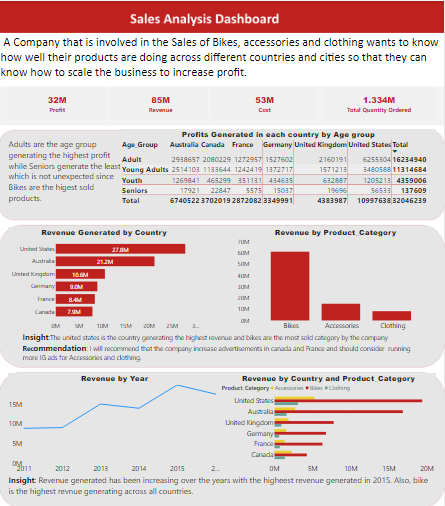

What the dashboard file says about the page in this screenshot:
{"tool":"powerbi","page":{"name":"Page 5","canvas":[4000,4576],"ordinal":4},"visuals":[{"type":"textbox","box":[9,297.3,3990.5,441.4],"z":0},{"type":"card","fields":{"Values":["Sum(updated_bike.Profit)"]},"box":[81.1,765.7,882.8,315.3],"z":1000},{"type":"card","fields":{"Values":["Sum(updated_bike.Revenue)"]},"box":[1026.9,765.7,855.7,315.3],"z":2000},{"type":"card","fields":{"Values":["Sum(updated_bike.Cost)"]},"box":[1918.7,765.7,945.8,315.3],"z":3000},{"type":"card","fields":{"Values":["Sum(updated_bike.Order_Quantity)"]},"box":[2927.6,765.7,990.9,315.3],"z":4000},{"type":"pivotTable","title":"Profits Generated in each country by Age group","fields":{"Rows":["updated_bike.Age_Group"],"Values":["Sum(updated_bike.Profit)"],"Columns":["updated_bike.Country"]},"box":[1094.5,1157.5,2834.6,779.5],"z":5000},{"type":"columnChart","fields":{"Y":["Sum(updated_bike.Revenue)"],"Category":["updated_bike.Product_Category"]},"box":[2143.9,2035.8,1774.6,936.8],"z":6000},{"type":"barChart","title":" Revenue Generated by  Country","fields":{"Y":["Sum(updated_bike.Revenue)"],"Category":["updated_bike.Country"]},"box":[81.1,2035.8,1729.5,936.8],"z":7000},{"type":"lineChart","fields":{"Category":["updated_bike.Year","updated_bike.Month","updated_bike.Day"],"Y":["Sum(updated_bike.Revenue)"]},"box":[81.1,3350.9,1801.6,909.8],"z":8000},{"type":"clusteredBarChart","fields":{"Category":["updated_bike.Country"],"Y":["Sum(updated_bike.Revenue)"],"Series":["updated_bike.Product_Category"]},"box":[1999.7,3350.9,1936.7,909.8],"z":9000},{"type":"textbox","box":[207.2,2972.6,3648.2,315.3],"z":10000},{"type":"textbox","box":[81.1,4260.7,3837.4,216.2],"z":11000},{"type":"textbox","box":[81.1,1234.1,1017.9,639.6],"z":11001}]}

Visuals, with their boxes in screenshot pixels (x1, y1, x2, y2), scaled from the page's 4000x4576 canvas onto the 445x506 screenshot:
textbox: 1/33/444/82
card - Sum(updated_bike.Profit): 9/85/107/120
card - Sum(updated_bike.Revenue): 114/85/209/120
card - Sum(updated_bike.Cost): 213/85/319/120
card - Sum(updated_bike.Order_Quantity): 326/85/436/120
"Profits Generated in each country by Age group" pivotTable: 122/128/437/214
columnChart - Sum(updated_bike.Revenue) x updated_bike.Product_Category: 239/225/436/329
" Revenue Generated by  Country" barChart: 9/225/201/329
lineChart - updated_bike.Year x updated_bike.Month: 9/371/209/471
clusteredBarChart - updated_bike.Country x Sum(updated_bike.Revenue): 222/371/438/471
textbox: 23/329/429/364
textbox: 9/471/436/495
textbox: 9/136/122/207
